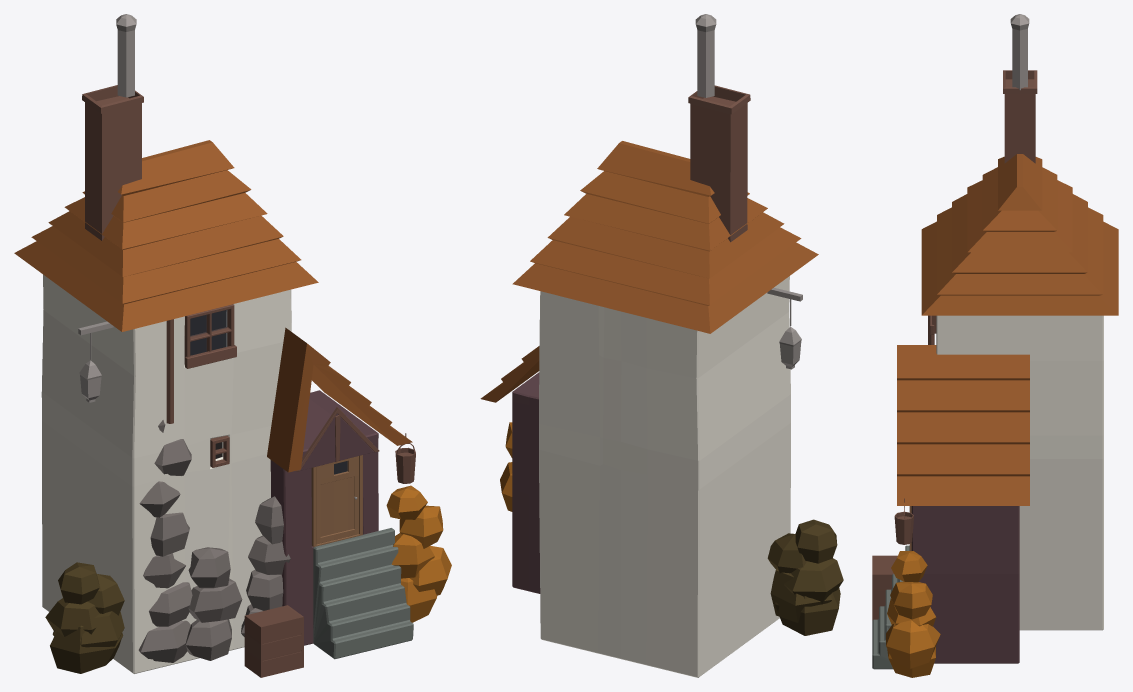
Rendered from test02_cottage.glb.
The picture shows the model from 3 angles, left to right: view 1: azimuth 30°, elevation 25°; view 2: azimuth 150°, elevation 25°; view 3: azimuth 270°, elevation 25°; orthographic projection. The views are drawn at different scales.
Parts seen in each view (by area): view 1: test02_cottage_tower, test02_cottage_roof_main, test02_cottage_steps, test02_cottage_stones_front, test02_cottage_porch_wall, test02_cottage_stones_left, test02_cottage_porch_roof, test02_cottage_bush_left, test02_cottage_bush_right, test02_cottage_door, test02_cottage_crate, test02_cottage_gable_trim (+6 smaller); view 2: test02_cottage_tower, test02_cottage_roof_main, test02_cottage_bush_left, test02_cottage_porch_wall, test02_cottage_flue_pipe, test02_cottage_porch_roof, test02_cottage_lantern, test02_cottage_bush_right; view 3: test02_cottage_tower, test02_cottage_roof_main, test02_cottage_porch_roof, test02_cottage_porch_wall, test02_cottage_bush_right, test02_cottage_flue_pipe, test02_cottage_steps, test02_cottage_crate, test02_cottage_bucket.
Boxes of the visible parts, x1,y1,x2,y2 form: test02_cottage_tower: (41, 274, 291, 673); test02_cottage_roof_main: (14, 85, 318, 331); test02_cottage_steps: (313, 528, 413, 659); test02_cottage_stones_front: (185, 496, 290, 660); test02_cottage_porch_wall: (270, 390, 378, 645); test02_cottage_stones_left: (138, 420, 192, 662); test02_cottage_porch_roof: (267, 327, 412, 472); test02_cottage_bush_left: (45, 562, 124, 673); test02_cottage_bush_right: (386, 485, 451, 622); test02_cottage_door: (311, 455, 362, 546); test02_cottage_crate: (244, 605, 303, 677); test02_cottage_gable_trim: (296, 407, 379, 471); test02_cottage_tower: (539, 276, 790, 677); test02_cottage_roof_main: (512, 85, 818, 333); test02_cottage_bush_left: (767, 519, 843, 635); test02_cottage_porch_wall: (512, 372, 540, 593); test02_cottage_flue_pipe: (695, 14, 716, 97); test02_cottage_porch_roof: (480, 346, 539, 402); test02_cottage_lantern: (767, 287, 802, 369); test02_cottage_bush_right: (500, 422, 512, 511); test02_cottage_tower: (936, 315, 1103, 630); test02_cottage_roof_main: (921, 70, 1118, 315); test02_cottage_porch_roof: (897, 345, 1029, 505); test02_cottage_porch_wall: (911, 506, 1019, 663); test02_cottage_bush_right: (886, 551, 940, 677); test02_cottage_flue_pipe: (1010, 14, 1029, 90); test02_cottage_steps: (872, 545, 909, 669); test02_cottage_crate: (872, 555, 897, 620); test02_cottage_bucket: (894, 498, 913, 544).
Bounding box in the file's own units: 7.94 × 12.73 × 5.02.
Materials: 2 (1 with a texture image).
